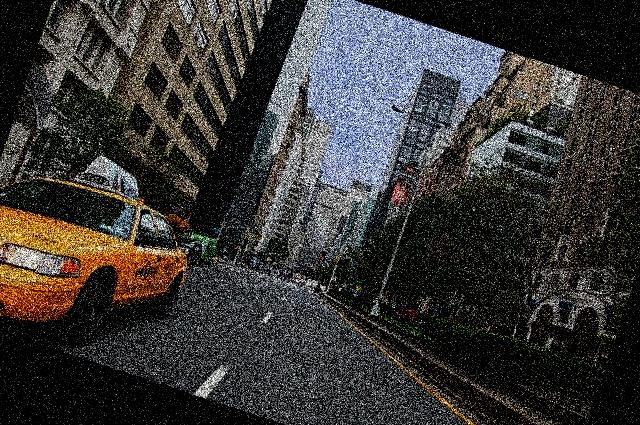taxi: (1, 171, 189, 340)
